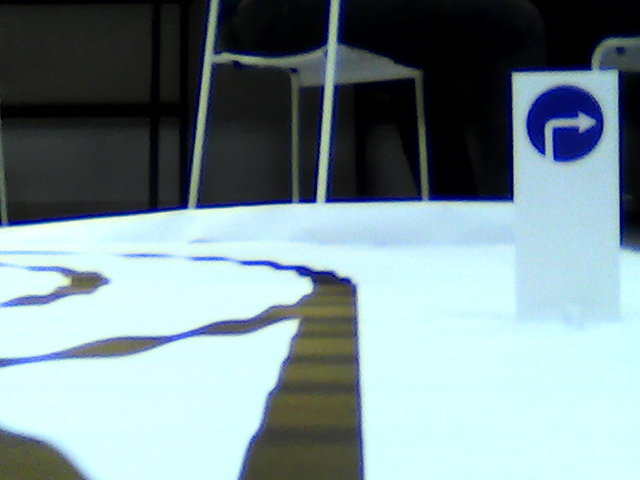Right: (528, 85, 605, 163)
